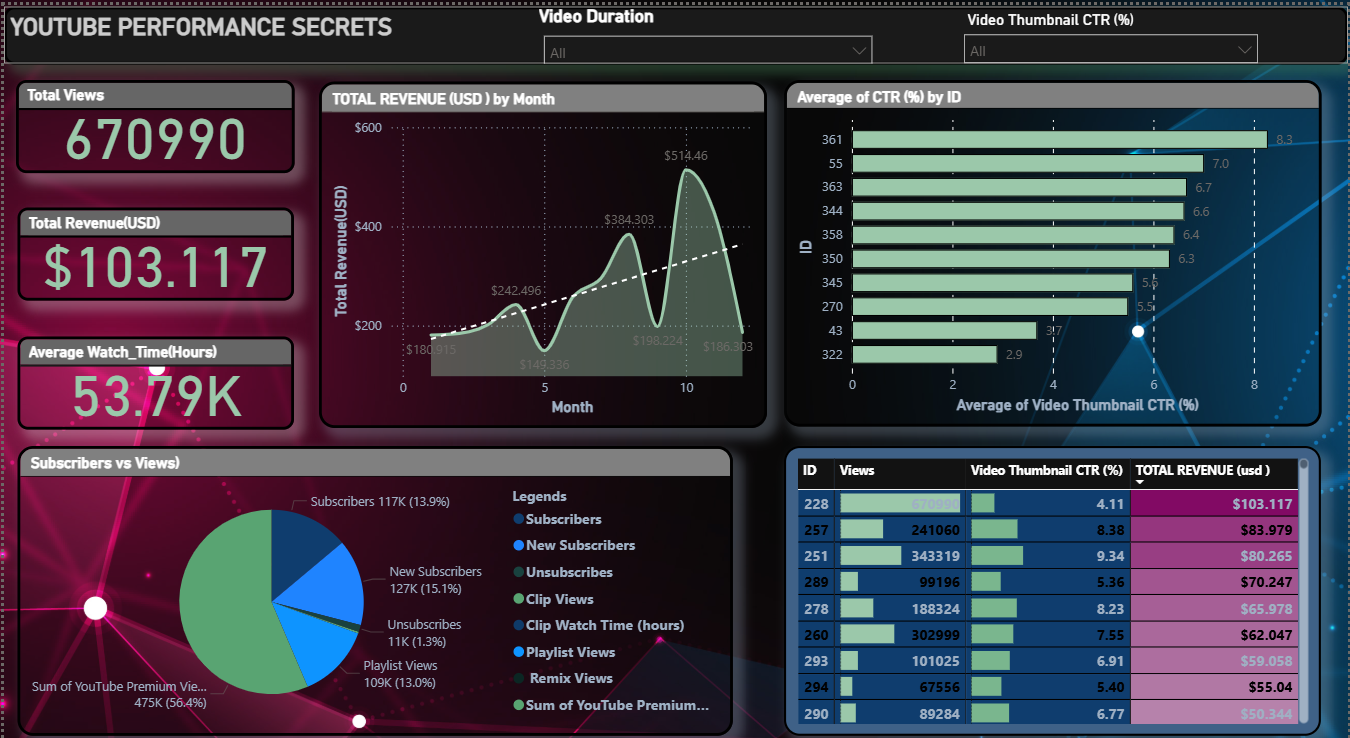

This screenshot's page, from the dashboard's own definition file:
{"tool":"powerbi","page":{"name":"Page 1","canvas":[1280,720],"ordinal":0},"visuals":[{"type":"shape","title":" YOUTUBE PERFORMANCE SECRETS","box":[0,0.7,1280,55],"z":0},{"type":"kpi","title":"Total Views ","fields":{"Indicator":["Sum(youtube_channel_data.Views)"],"TrendLine":["youtube_channel_data.Views"]},"box":[11.1,71.1,265.6,88.9],"z":1000},{"type":"kpi","title":"Total Revenue(USD)","fields":{"Indicator":["Sum(youtube_channel_data.TOTAL REVENUE (usd ))"],"TrendLine":["youtube_channel_data.TOTAL REVENUE (usd )"]},"box":[13.3,193.3,263.3,88.3],"z":2000},{"type":"kpi","title":"Average Watch_Time(Hours)","fields":{"Indicator":["Avg(youtube_channel_data.Watch Time (hours))"],"TrendLine":["youtube_channel_data.Watch Time (hours)"]},"box":[13.3,315,263.3,88.3],"z":3000},{"type":"barChart","title":"Average of CTR (%) by ID","fields":{"Category":["youtube_channel_data.ID"],"Y":["Avg(youtube_channel_data.Video Thumbnail CTR (%))"]},"box":[743.3,71.7,511.7,330],"z":4000},{"type":"lineChart","title":"TOTAL REVENUE (USD ) by Month","fields":{"Category":["youtube_channel_data.Month"],"Y":["Sum(youtube_channel_data.TOTAL REVENUE (usd ))"]},"box":[300,73.3,426.7,330],"z":5000},{"type":"pieChart","title":"Subscribers vs Views)","fields":{"Y":["Sum(youtube_channel_data.Subscribers)","Sum(youtube_channel_data.New Subscribers)","Sum(youtube_channel_data.Unsubscribes)","Sum(youtube_channel_data.Clip Views)","Sum(youtube_channel_data.Clip Watch Time (hours))","Sum(youtube_channel_data.Playlist Views)","Sum(youtube_channel_data.Remix Views)","Sum(youtube_channel_data.YouTube Premium Views)"]},"box":[12.9,420,681.4,275.7],"z":6000},{"type":"tableEx","fields":{"Values":["youtube_channel_data.ID","youtube_channel_data.Views","youtube_channel_data.Video Thumbnail CTR (%)","youtube_channel_data.TOTAL REVENUE (usd )"]},"box":[742.9,420,511.4,275.7],"z":7000},{"type":"slicer","title":"Video Duration","fields":{"Values":["youtube_channel_data.Video Duration","youtube_channel_data.Video Thumbnail CTR (%)"]},"box":[503.9,0,332.9,55.7],"z":8000},{"type":"slicer","fields":{"Values":["youtube_channel_data.Video Thumbnail CTR (%)"]},"box":[904.3,0,300,55.7],"z":9000}]}

Visuals, with their boxes in screenshot pixels (x1, y1, x2, y2), scaled from the page's 1280x720 canvas onto the 1350x738 screenshot:
" YOUTUBE PERFORMANCE SECRETS" shape: 0:1:1349:57
"Total Views " kpi: 12:73:292:164
"Total Revenue(USD)" kpi: 14:198:292:289
"Average Watch_Time(Hours)" kpi: 14:323:292:413
"Average of CTR (%) by ID" barChart: 784:73:1324:412
"TOTAL REVENUE (USD ) by Month" lineChart: 316:75:766:413
"Subscribers vs Views)" pieChart: 14:430:732:713
tableEx - youtube_channel_data.ID x youtube_channel_data.Views: 784:430:1323:713
"Video Duration" slicer: 531:0:883:57
slicer - youtube_channel_data.Video Thumbnail CTR (%): 954:0:1270:57
